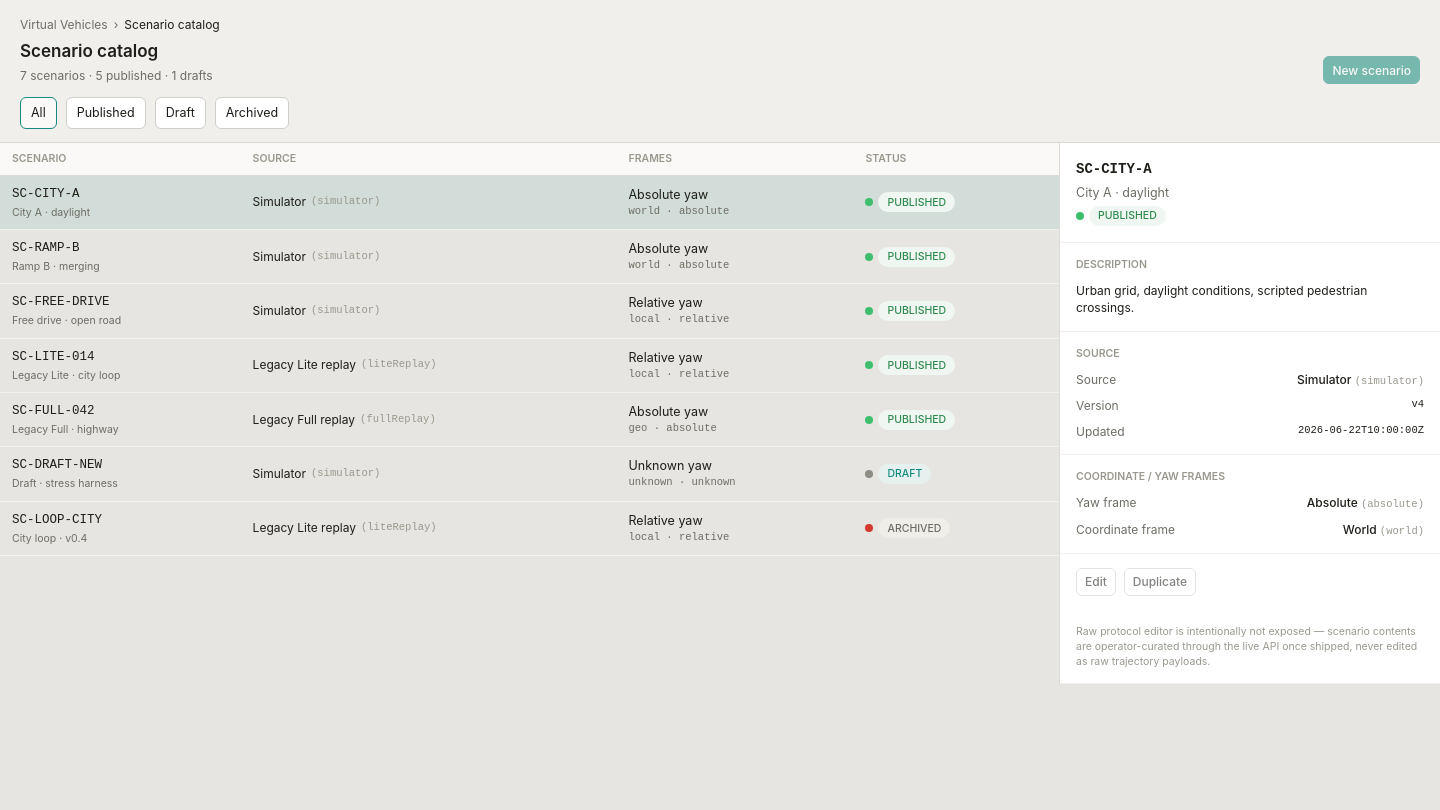
VirtualVehicleScenarioCatalogScreen › clicking a row switches the detail aside (Lite source canonical chip visible)
This screenshot has width=1440, height=810.
Expected: the button "SC-CITY-A City A · daylight" is shown, [12,185,229,220]
Click the button "SC-LITE-014 Legacy Lite · city loop" at x=120, y=365, box [12,348,229,383]
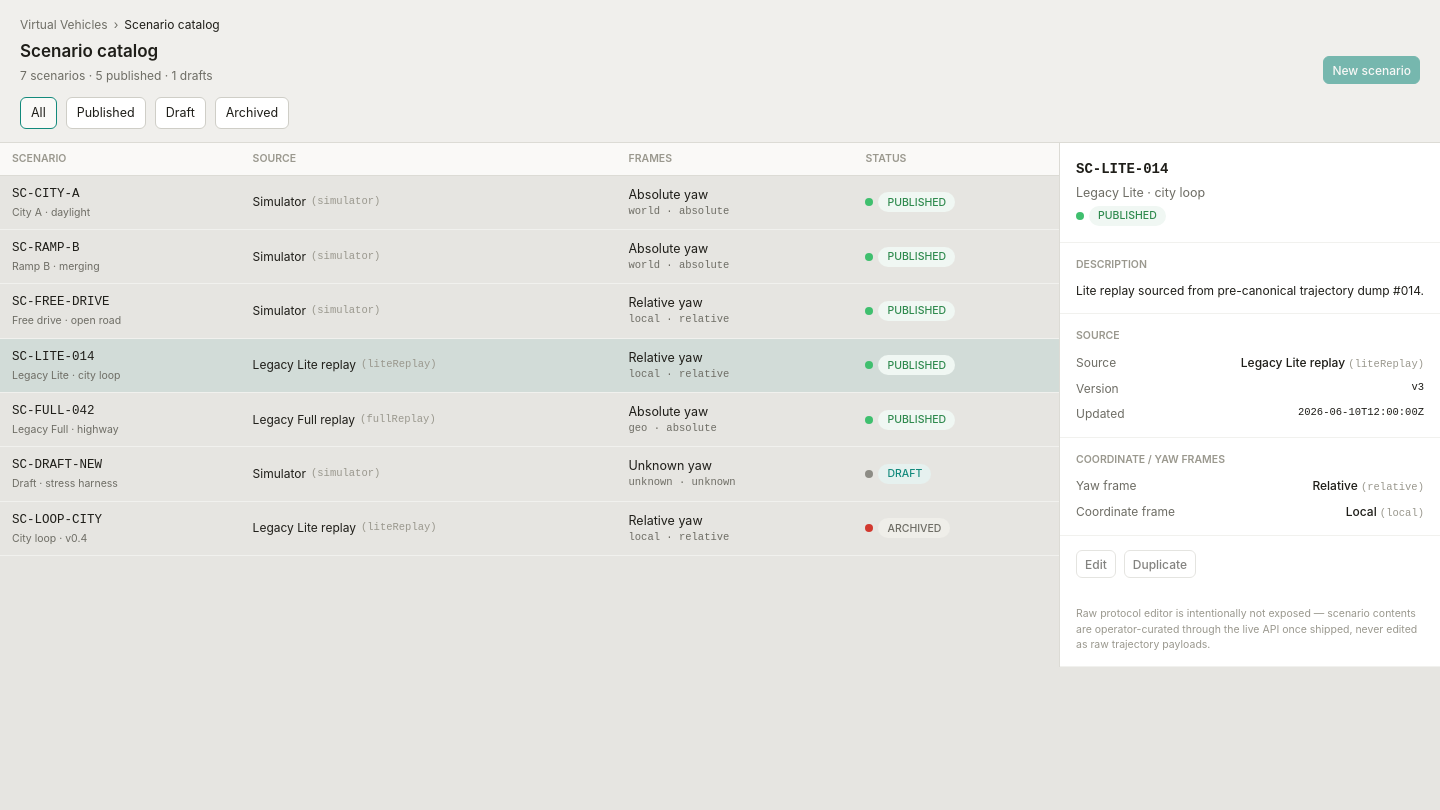
Expected: the text "Description" is shown, [1076,258,1147,271]
Expected: the text "(liteReplay)" below "Description" is shown, [1355,358,1418,370]
